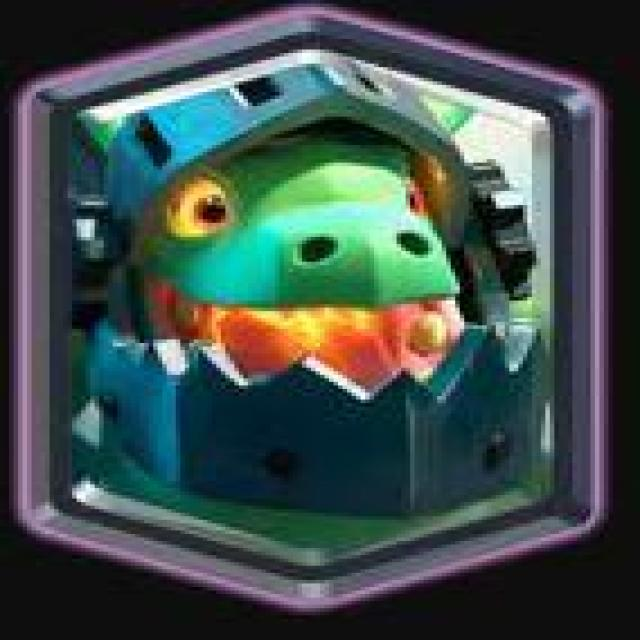Inferno_Dragon: (11, 10, 610, 611)
